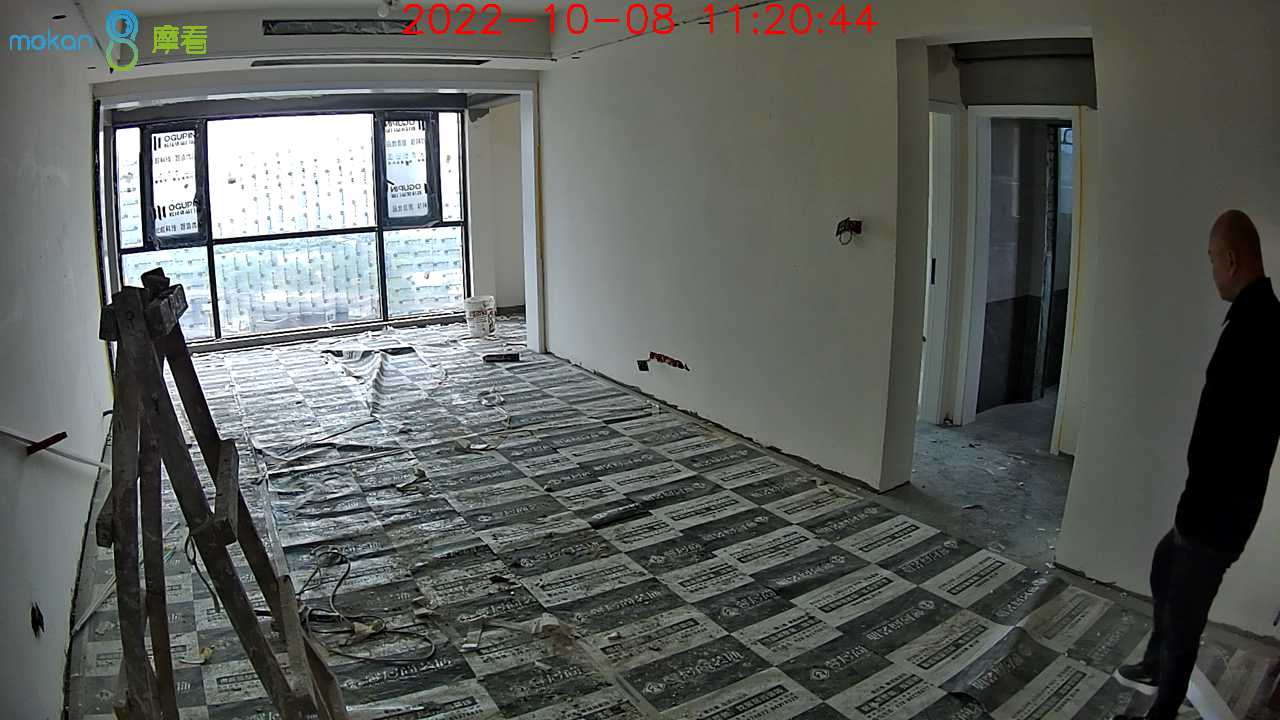people: (1116, 209, 1280, 719)
window: (105, 101, 470, 335)
